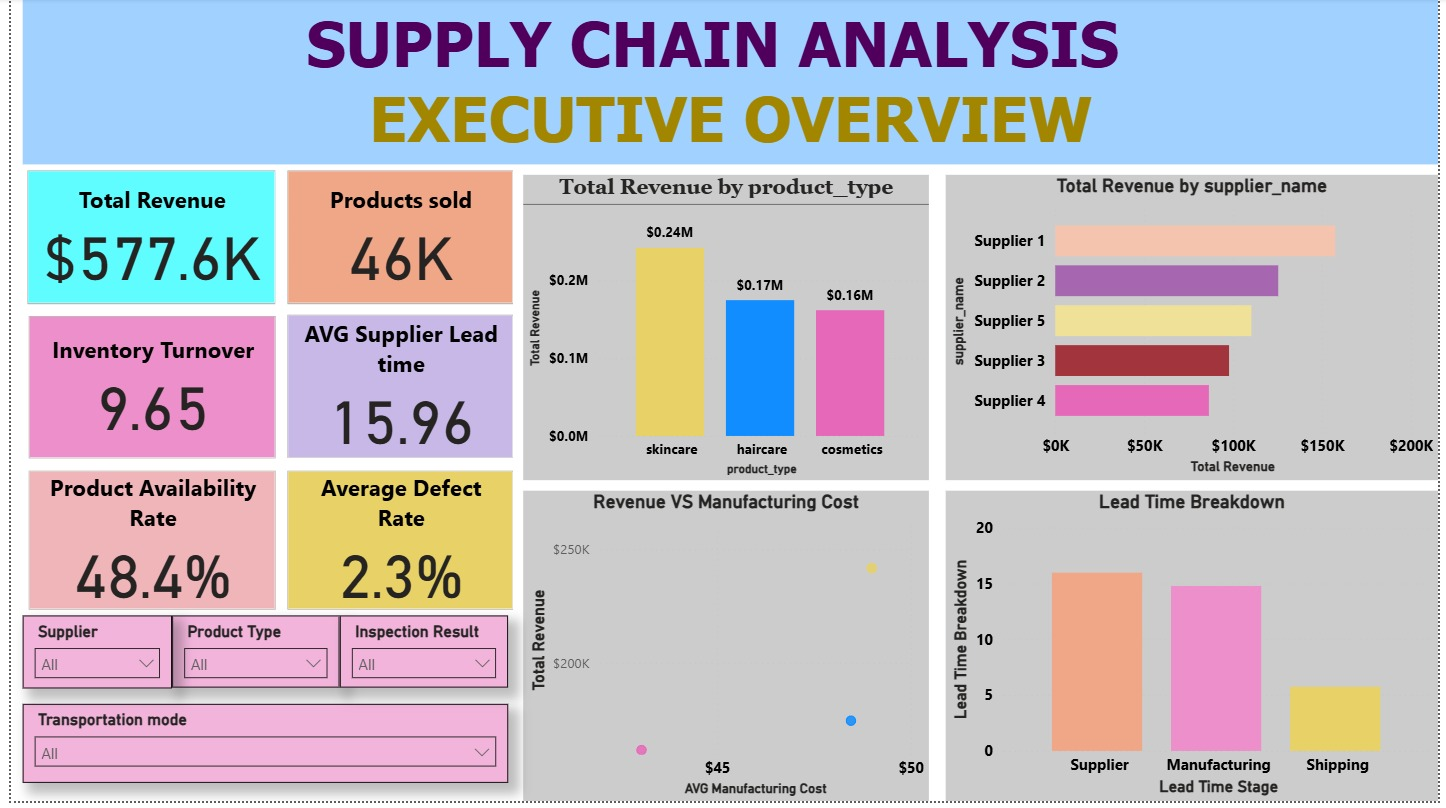

The page's visual inventory and layout, read from the dashboard file:
{"tool":"powerbi","page":{"name":"Executive Overview","canvas":[1280,720],"ordinal":0},"visuals":[{"type":"cardVisual","fields":{"Data":["public inventory.Total Revenue"]},"box":[9,149.8,233.7,130.4],"z":0},{"type":"cardVisual","fields":{"Data":["public inventory.Products sold"]},"box":[242.8,149.8,213.1,130.4],"z":1000},{"type":"cardVisual","fields":{"Data":["public inventory.Inventory Turnover"]},"box":[10.3,280.2,232.4,138.2],"z":2000},{"type":"cardVisual","fields":{"Data":["public manufacturing.AVG Supplier Lead time"]},"box":[242.8,278.9,213.1,139.5],"z":3000},{"type":"cardVisual","fields":{"Data":["public quality.AVG DEFECT RATE"]},"box":[242.8,418.4,213.1,135.6],"z":4000},{"type":"cardVisual","fields":{"Data":["public inventory.Product Availability Rate"]},"box":[10.3,418.4,232.4,135.6],"z":5000},{"type":"textbox","box":[10.2,0,1270.3,149.3],"z":6000},{"type":"clusteredColumnChart","fields":{"Category":["public products.product_type"],"Y":["public inventory.Total Revenue"]},"box":[459.7,158.8,364.2,273.8],"z":7000},{"type":"clusteredBarChart","fields":{"Category":["public manufacturing.supplier_name"],"Y":["public inventory.Total Revenue"]},"box":[838.1,158.8,441.6,273.8],"z":8000},{"type":"scatterChart","title":"Revenue VS Manufacturing Cost","fields":{"X":["public manufacturing.AVG MANU COST"],"Y":["public inventory.Total Revenue"],"Category":["public products.product_type"]},"box":[459.7,441.6,364.2,278.9],"z":9000},{"type":"slicer","fields":{"Values":["public products.product_type"]},"box":[144.6,554,149.8,64.6],"z":10000},{"type":"slicer","fields":{"Values":["public shipping.transportation_mode","public shipping.shipping_carrier"]},"box":[10.3,632.8,435.2,71],"z":11000},{"type":"slicer","fields":{"Values":["public manufacturing.supplier_name"]},"box":[10.5,553.8,134.1,65.3],"z":12000},{"type":"slicer","fields":{"Values":["public quality.inspection_result"]},"box":[294.4,554,151.1,64.6],"z":13000},{"type":"clusteredColumnChart","title":"Lead Time Breakdown ","fields":{"Category":["Lead Time Stages.Lead Time Stage"],"Y":["Lead Time Stages.Lead Time Breakdown"]},"box":[838.1,441.6,441.6,278.9],"z":14000}]}

Visuals, with their boxes in screenshot pixels (x1, y1, x2, y2), scaled from the page's 1280x720 canvas onto the 1446x808 screenshot:
cardVisual - public inventory.Total Revenue: [left=10, top=168, right=274, bottom=314]
cardVisual - public inventory.Products sold: [left=274, top=168, right=515, bottom=314]
cardVisual - public inventory.Inventory Turnover: [left=12, top=314, right=274, bottom=470]
cardVisual - public manufacturing.AVG Supplier Lead time: [left=274, top=313, right=515, bottom=470]
cardVisual - public quality.AVG DEFECT RATE: [left=274, top=470, right=515, bottom=622]
cardVisual - public inventory.Product Availability Rate: [left=12, top=470, right=274, bottom=622]
textbox: [left=12, top=0, right=1445, bottom=168]
clusteredColumnChart - public products.product_type x public inventory.Total Revenue: [left=519, top=178, right=931, bottom=485]
clusteredBarChart - public manufacturing.supplier_name x public inventory.Total Revenue: [left=947, top=178, right=1445, bottom=485]
"Revenue VS Manufacturing Cost" scatterChart: [left=519, top=496, right=931, bottom=807]
slicer - public products.product_type: [left=163, top=622, right=333, bottom=694]
slicer - public shipping.transportation_mode x public shipping.shipping_carrier: [left=12, top=710, right=503, bottom=790]
slicer - public manufacturing.supplier_name: [left=12, top=621, right=163, bottom=695]
slicer - public quality.inspection_result: [left=333, top=622, right=503, bottom=694]
"Lead Time Breakdown " clusteredColumnChart: [left=947, top=496, right=1445, bottom=807]
